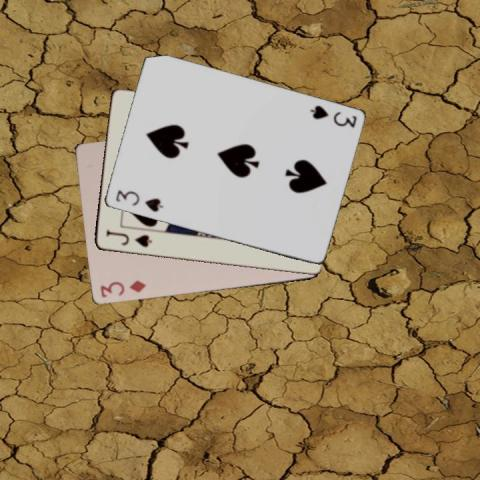3d: (97, 278, 147, 299)
3s: (112, 187, 164, 214), (307, 102, 358, 129)
Js: (103, 227, 153, 249)
